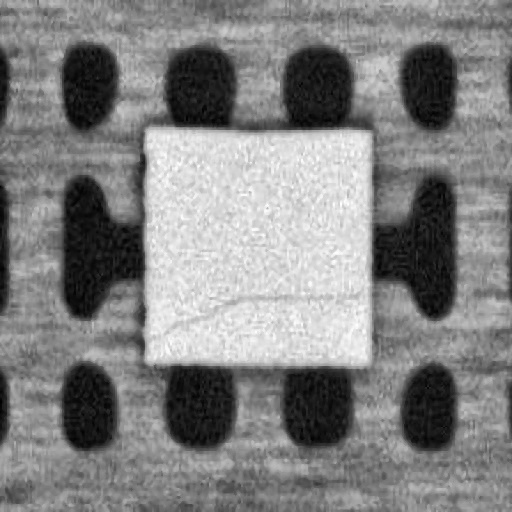DIE_CRACK: (154, 286, 365, 334)
